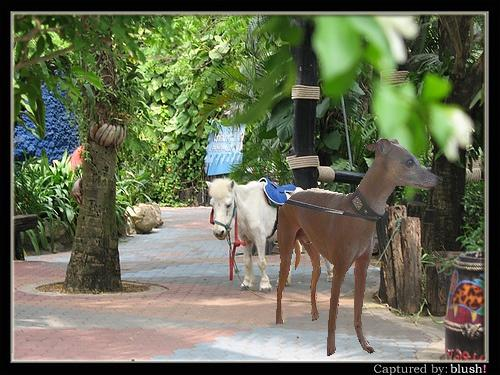tampered: (277, 140, 443, 356)
